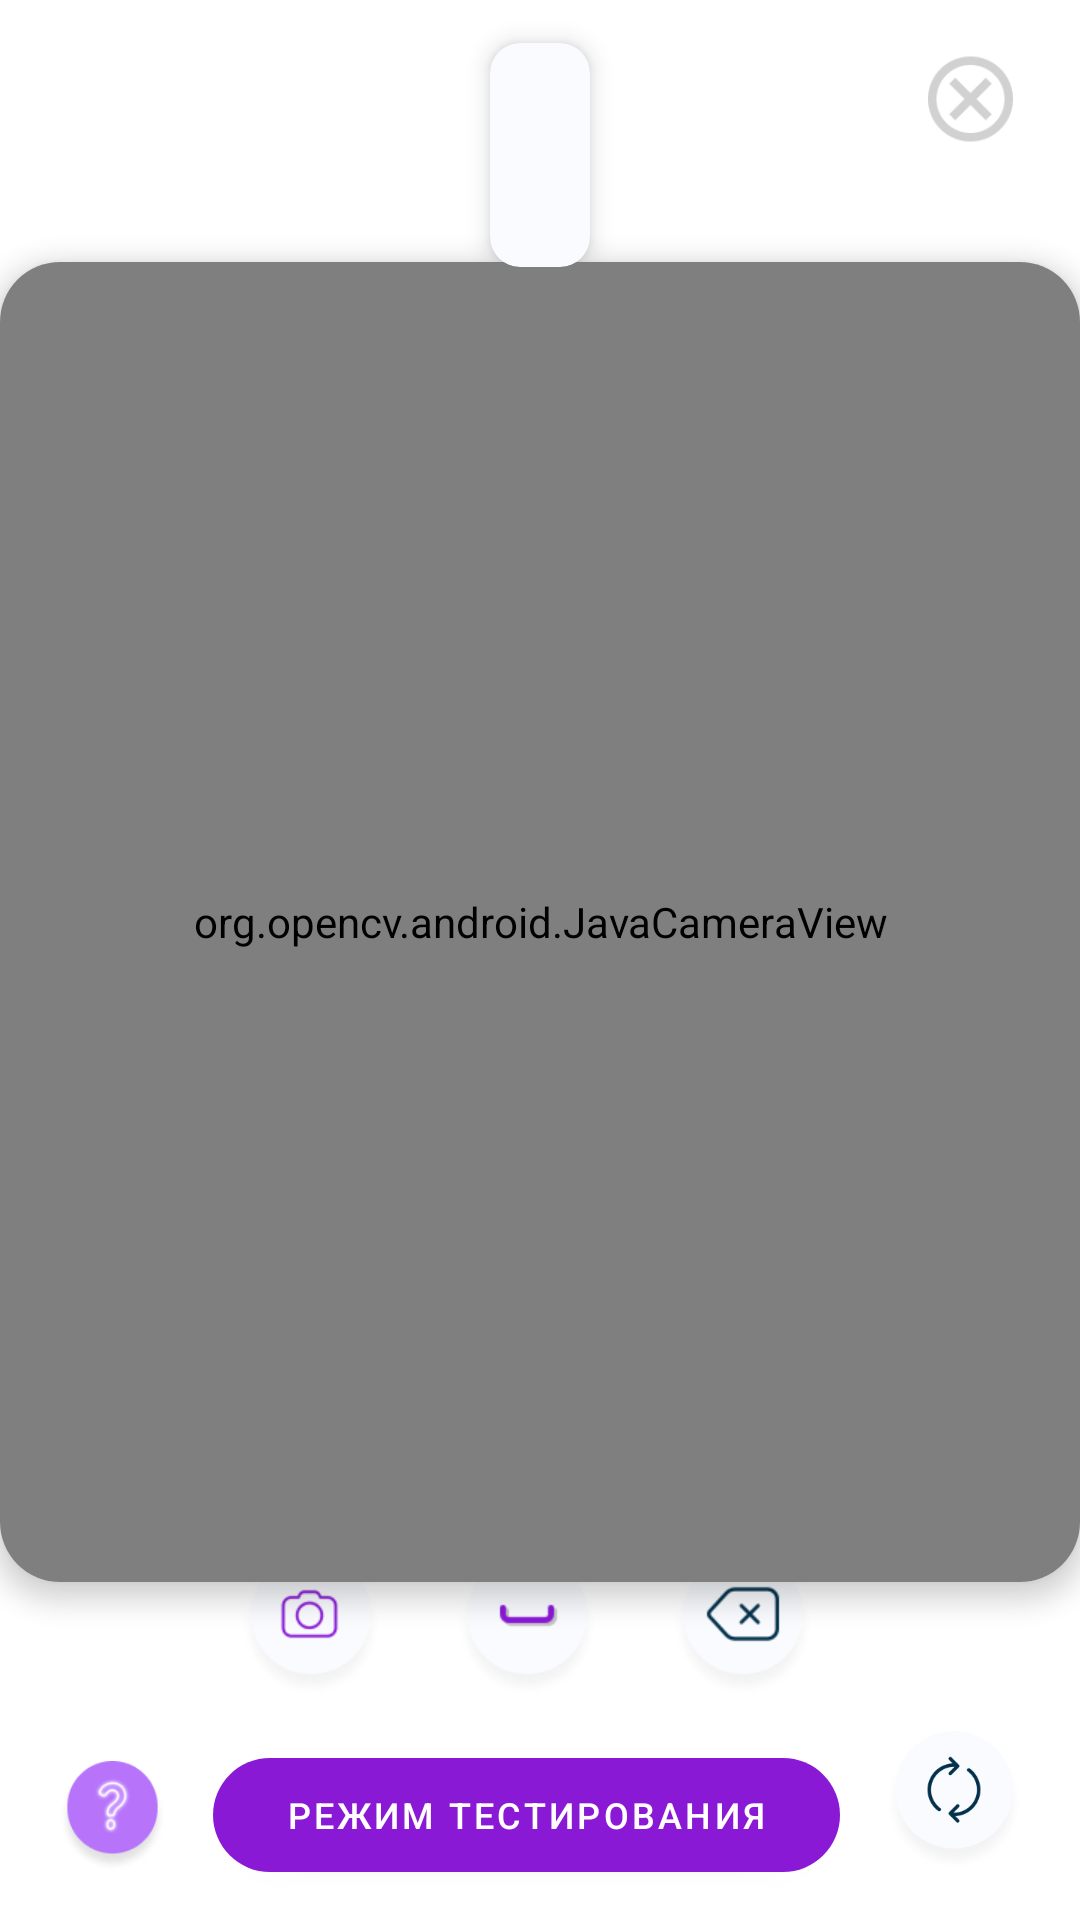

Named icons in this screenshot (1080×1920) and their centers, (x=x, y=y):
cancel: (x=970, y=99)
switch camera: (x=954, y=1789)
Задержите кнопку, чтобы очистить: (x=743, y=1626)
Помощь: (x=112, y=1810)
Пробел: (x=527, y=1626)
